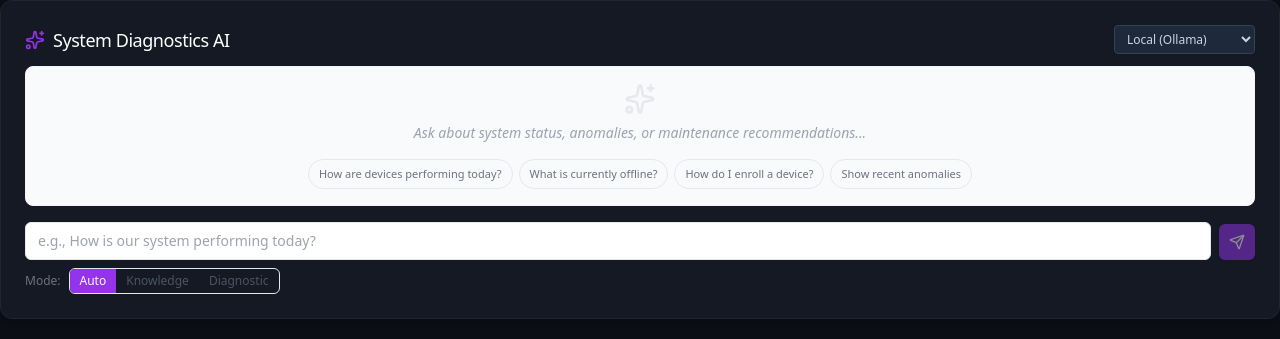
Scenario: AskAIWidget failure messages (frontend/src/utils/aiErrorMessage.js) › explains a timeout while the model is still thinking
Type "What is the system status?" into the field.
click(618, 241); type("What is the system status?")  # box [25, 222, 1211, 260]
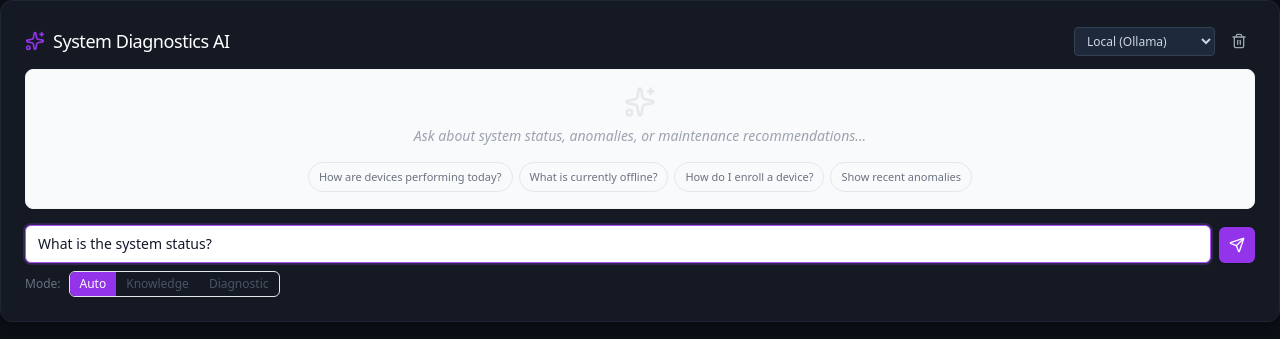
Click the button named "Send".
click(1237, 245)  # box [1219, 227, 1255, 263]
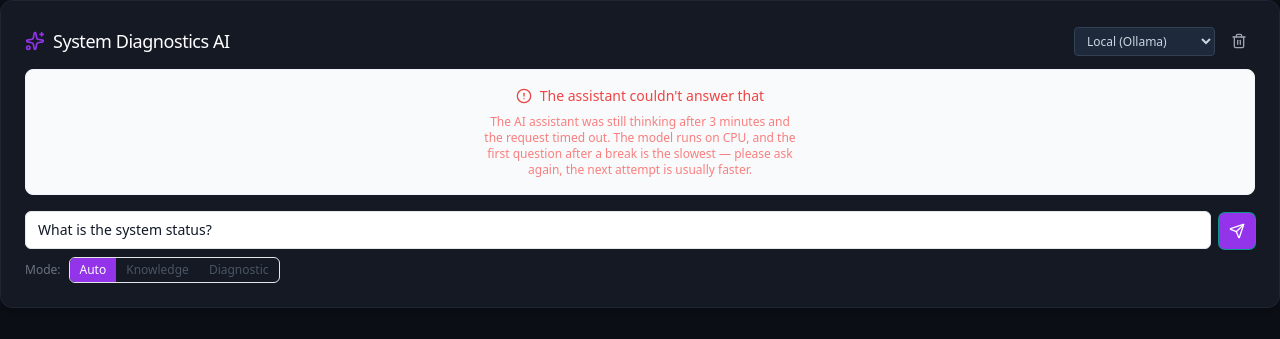
Check: the text "timed out" is shown, box [484, 113, 796, 178]
